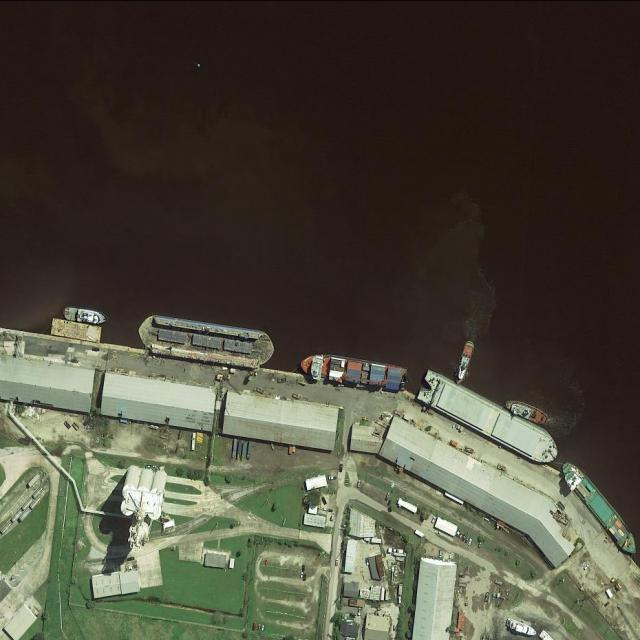Cargo: (555, 457, 640, 556)
Container Ship: (296, 348, 409, 398)
Hovercraft: (501, 394, 551, 428), (451, 339, 476, 386)
Other Ship: (63, 304, 107, 326)
RoRo: (406, 359, 567, 475)
